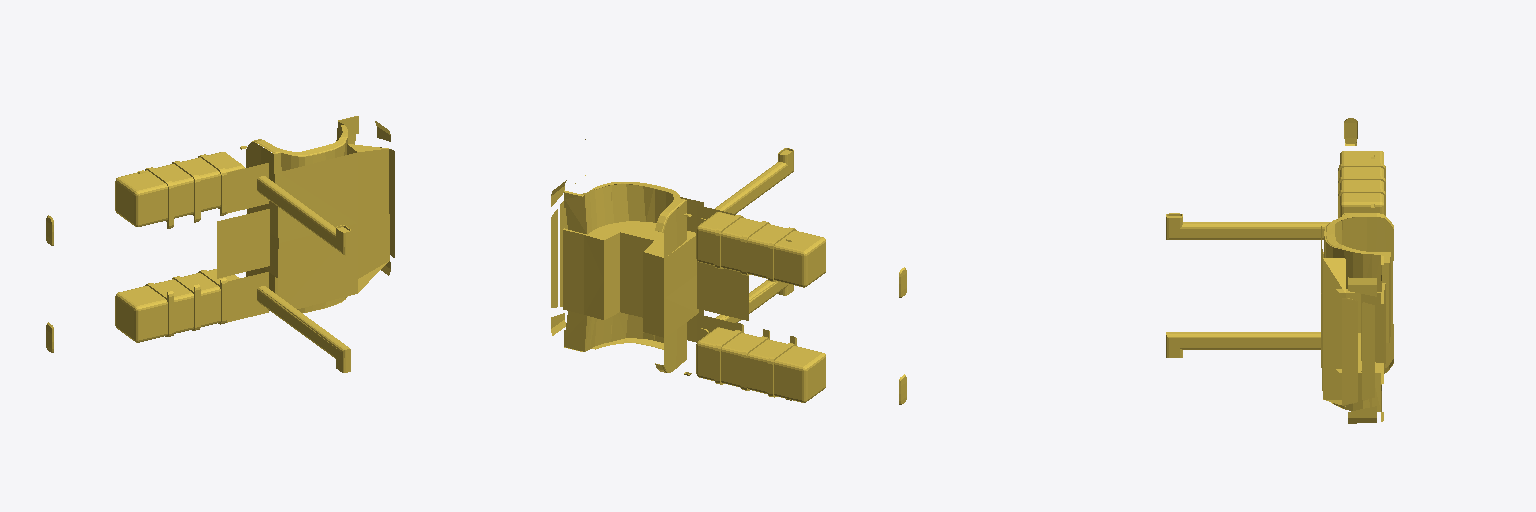
File: bumper_detail.obj
3 renders of one model, left to right at view 1: azimuth 30°, elevation 25°; view 2: azimuth 150°, elevation 25°; view 3: azimuth 270°, elevation 25°, orthographic.
Parts seen in each view (by area): view 1: cab_details; view 2: cab_details; view 3: cab_details.
Boxes of the visible parts, <box> form: cab_details: <box>46,116,394,372</box>; cab_details: <box>551,139,906,404</box>; cab_details: <box>1166,118,1393,423</box>.
Bounding box in the file's own units: 5.44 × 2.82 × 3.14.